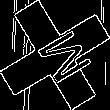M_SW: (22, 22, 88, 88)
